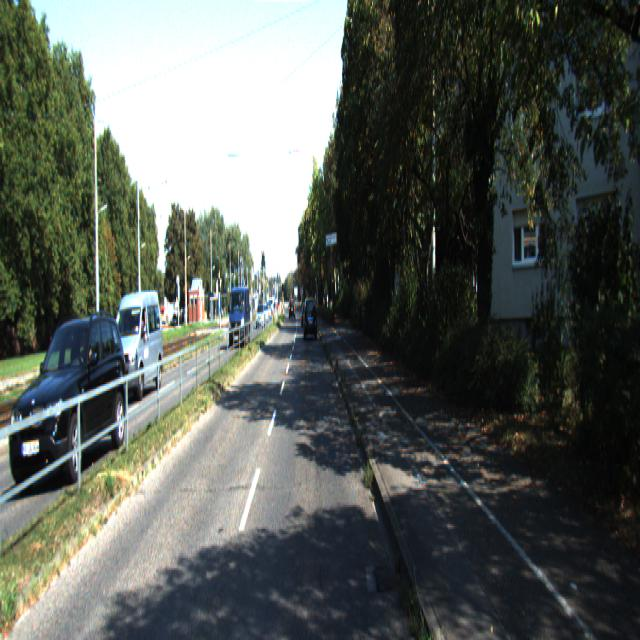Car: (12, 310, 128, 492), (108, 287, 164, 402), (229, 286, 251, 352), (304, 298, 318, 342)
